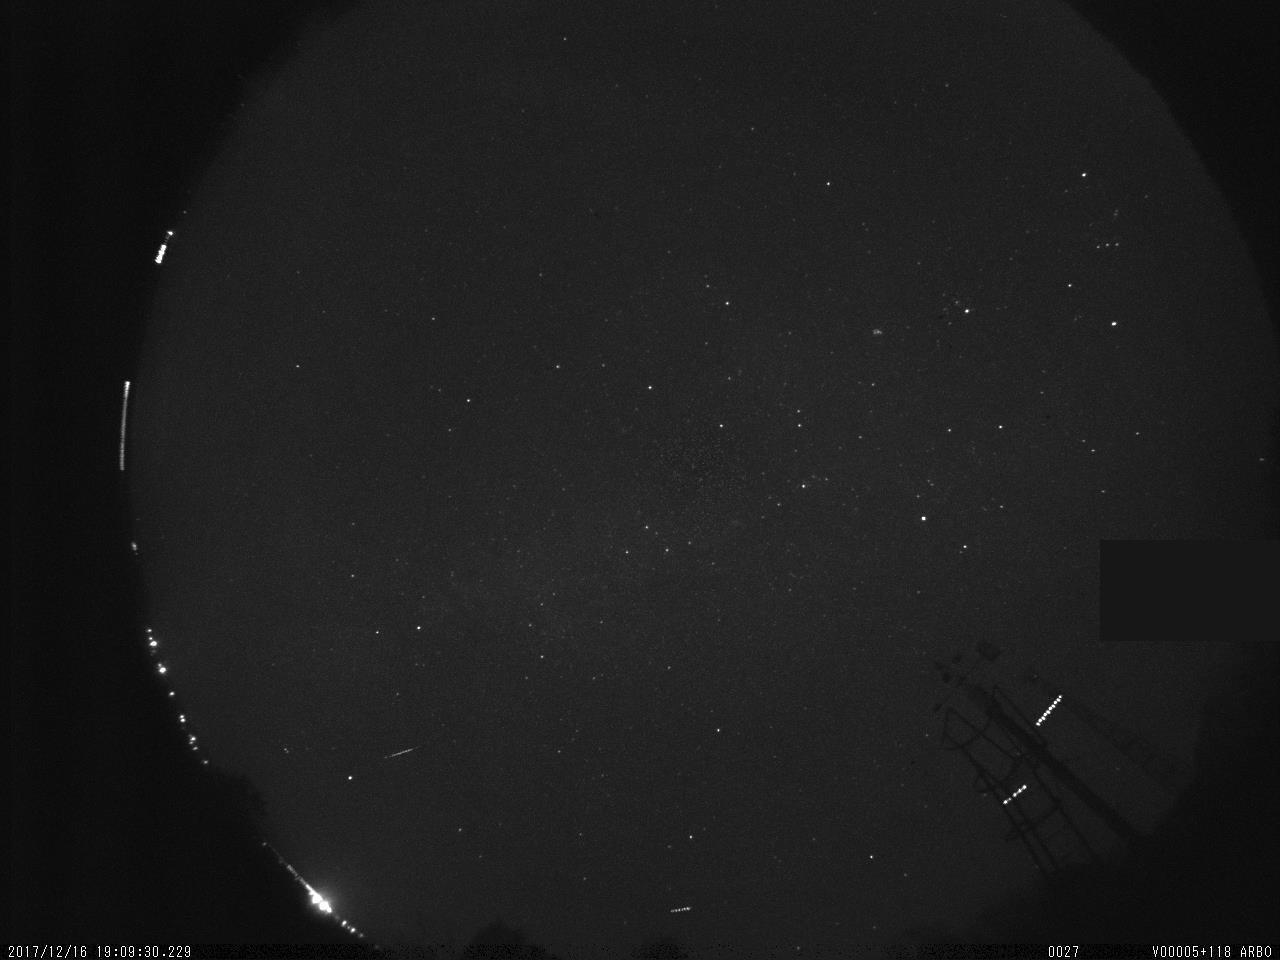Meteor: (380, 739, 421, 770)
